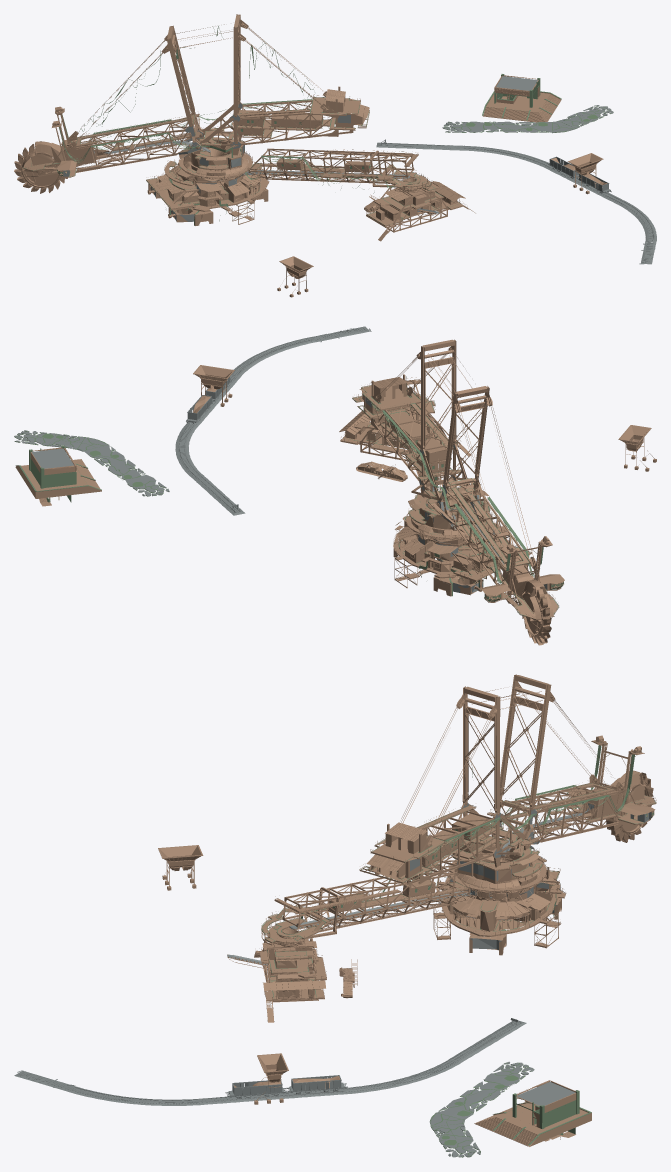
File: excavator_1-mid.glb
3 views of the same model, one above another, from view 1: azimuth 30°, elevation 25°; view 2: azimuth 150°, elevation 25°; view 3: azimuth 270°, elevation 25° (orthographic). The views are drawn at different scales.
Parts seen in each view (by area): view 1: fuel_tank_b_600_LOD0, bucket_excavator_LOD0, conveyor_bridge_LOD0; view 2: fuel_tank_b_600_LOD0, bucket_excavator_LOD0, conveyor_bridge_LOD0; view 3: fuel_tank_b_600_LOD0, bucket_excavator_LOD0, conveyor_bridge_LOD0.
Boxes of the visible parts, x1=… form: fuel_tank_b_600_LOD0: x1=14, y1=14, x2=607, y2=297; bucket_excavator_LOD0: x1=63, y1=76, x2=656, y2=264; conveyor_bridge_LOD0: x1=23, y1=26, x2=611, y2=225; fuel_tank_b_600_LOD0: x1=15, y1=339, x2=656, y2=645; bucket_excavator_LOD0: x1=14, y1=326, x2=547, y2=599; conveyor_bridge_LOD0: x1=14, y1=376, x2=563, y2=615; fuel_tank_b_600_LOD0: x1=158, y1=674, x2=656, y2=1146; bucket_excavator_LOD0: x1=14, y1=800, x2=651, y2=1157; conveyor_bridge_LOD0: x1=262, y1=742, x2=655, y2=1157.
Size of the model in its own units: 215 by 74.18 by 171.
